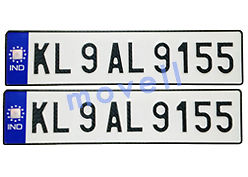inlp: (2, 85, 244, 148), (3, 28, 245, 87)
